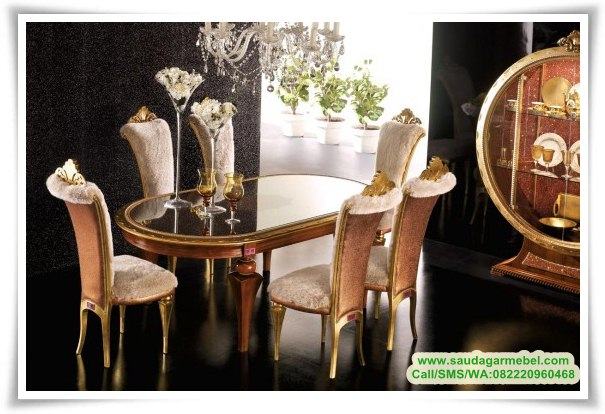Carving Chair: (41, 161, 178, 364), (280, 193, 391, 378), (383, 163, 442, 366)
Carving Table: (109, 171, 391, 338)
